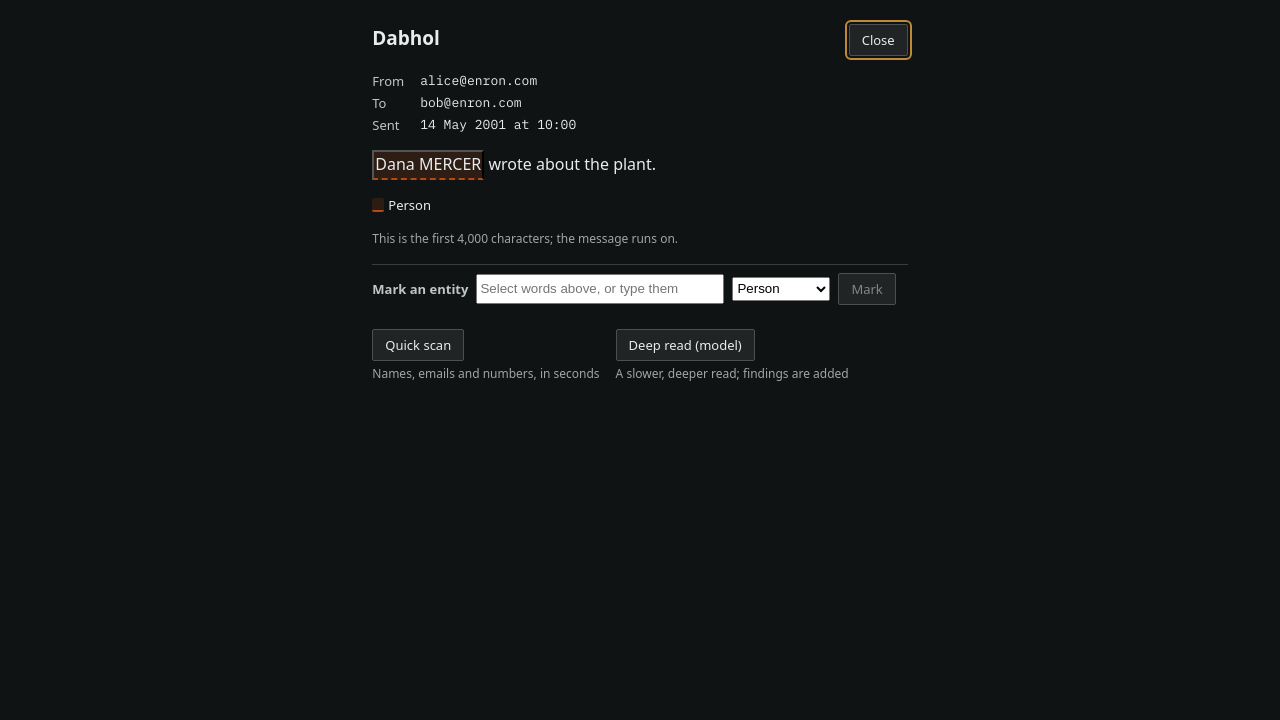
Scenario: DocumentReader › keeps both extraction buttons offered after findings are listed
Click the button "Quick scan" at [418, 345], box [372,329,464,361]
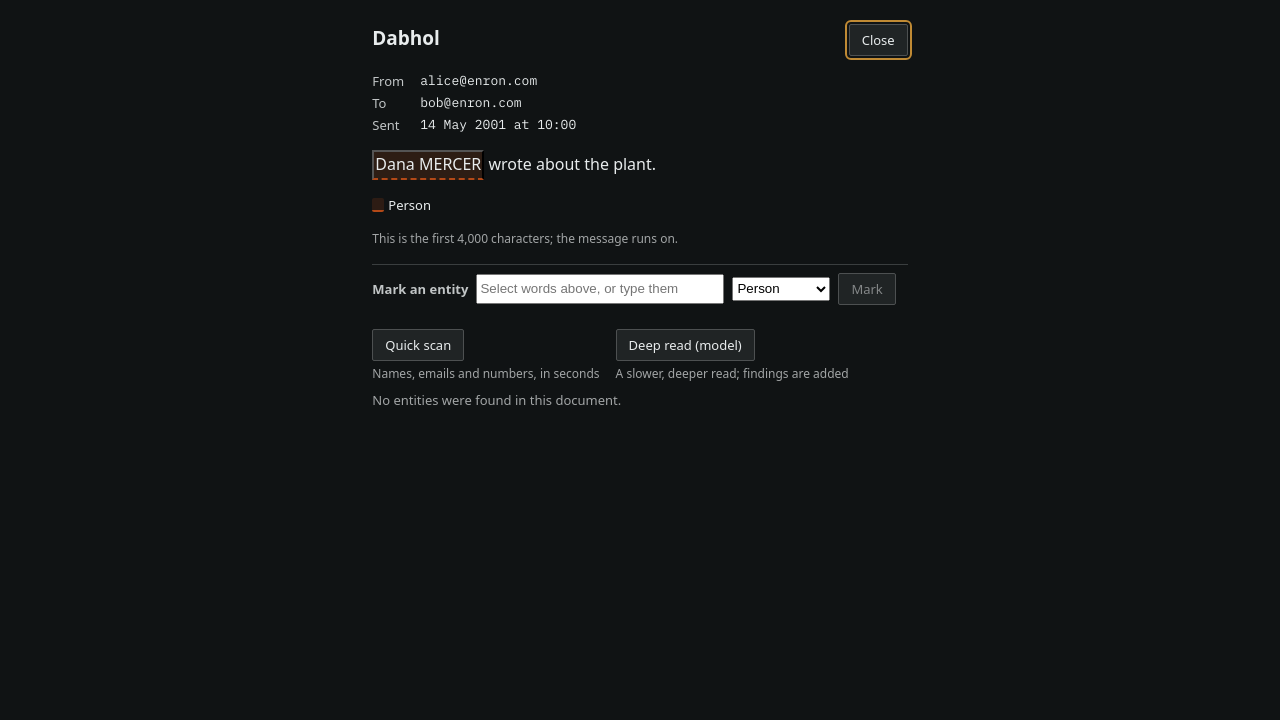
Check: the button "Deep read (model)" is shown, box [616,329,755,361]
Check: the text "No entities were found in this document." is shown, box [372,391,621,409]
